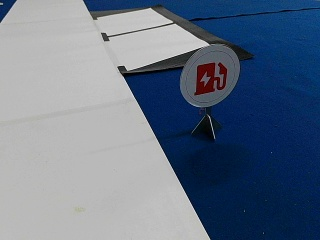battery: (179, 44, 239, 108)
